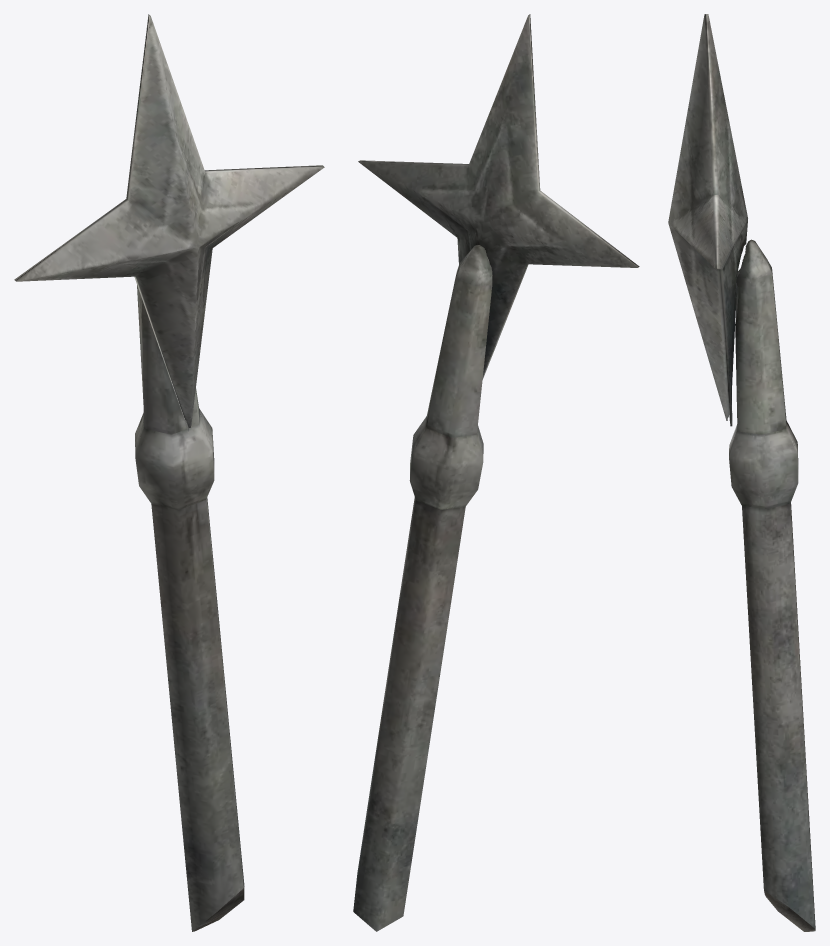
3 renders of one model, left to right at view 1: azimuth 30°, elevation 25°; view 2: azimuth 150°, elevation 25°; view 3: azimuth 270°, elevation 25°, orthographic. The views are drawn at different scales.
Visible parts, largest first — view 1: SM_SaradominTemple_Statue_01v11_LOD0; view 2: SM_SaradominTemple_Statue_01v11_LOD0; view 3: SM_SaradominTemple_Statue_01v11_LOD0.
Part boxes in pixels (x1,y1,x2,y2): SM_SaradominTemple_Statue_01v11_LOD0: (14,14,324,931); SM_SaradominTemple_Statue_01v11_LOD0: (353,14,639,931); SM_SaradominTemple_Statue_01v11_LOD0: (668,14,815,931).
Size of the model in its own units: 1.61 by 4.93 by 0.7569.
2 materials, 2 textured.
